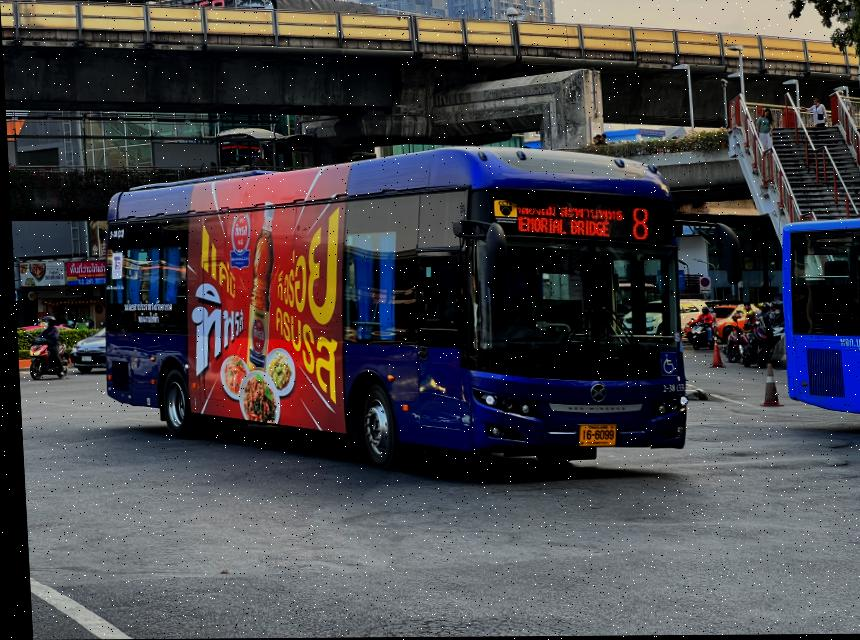Bus Line Number: (628, 201, 654, 250)
Bus Side Number: (656, 381, 682, 394)
Destination Sign: (510, 196, 624, 247)
TSB-Bus: (98, 145, 684, 471)
